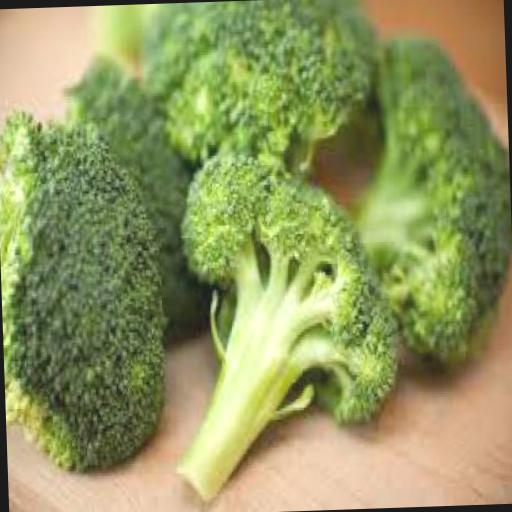biodegradable: (154, 143, 402, 496), (0, 95, 167, 473), (342, 30, 512, 377), (134, 0, 384, 189), (60, 46, 215, 345), (98, 4, 150, 62)
